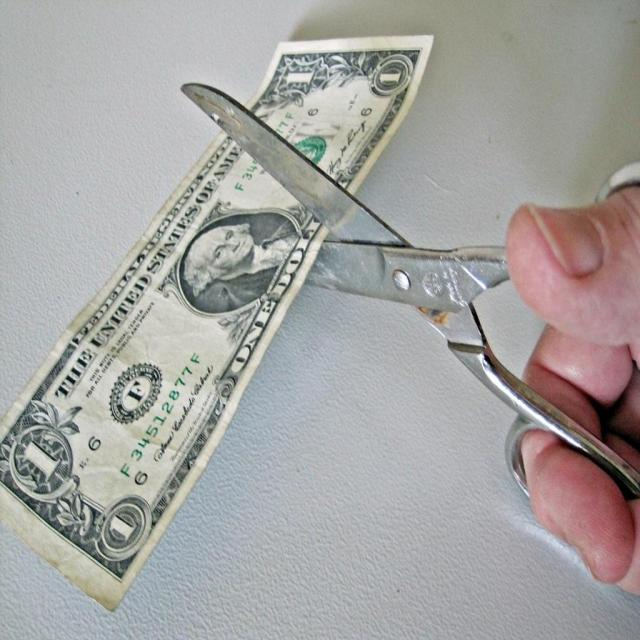scissor: (180, 91, 640, 498)
